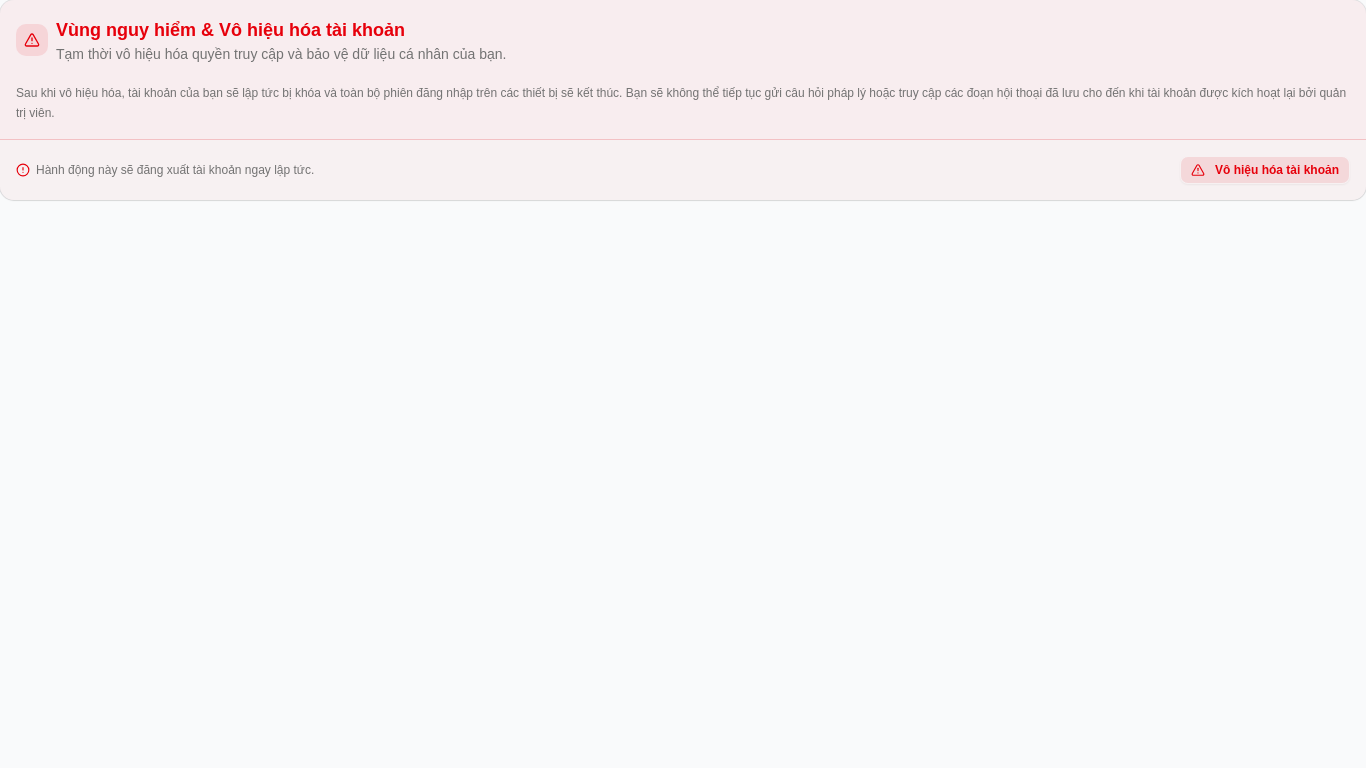
Test case: User Feature › DeactivateAccountCard component › allows non-admin user to open confirmation dialog and confirm
The image size is (1366, 768).
Later steps or results of the test are not shown.
Click the button "Vô hiệu hóa tài khoản" at (1265, 170), box left=1180, top=156, right=1350, bottom=184
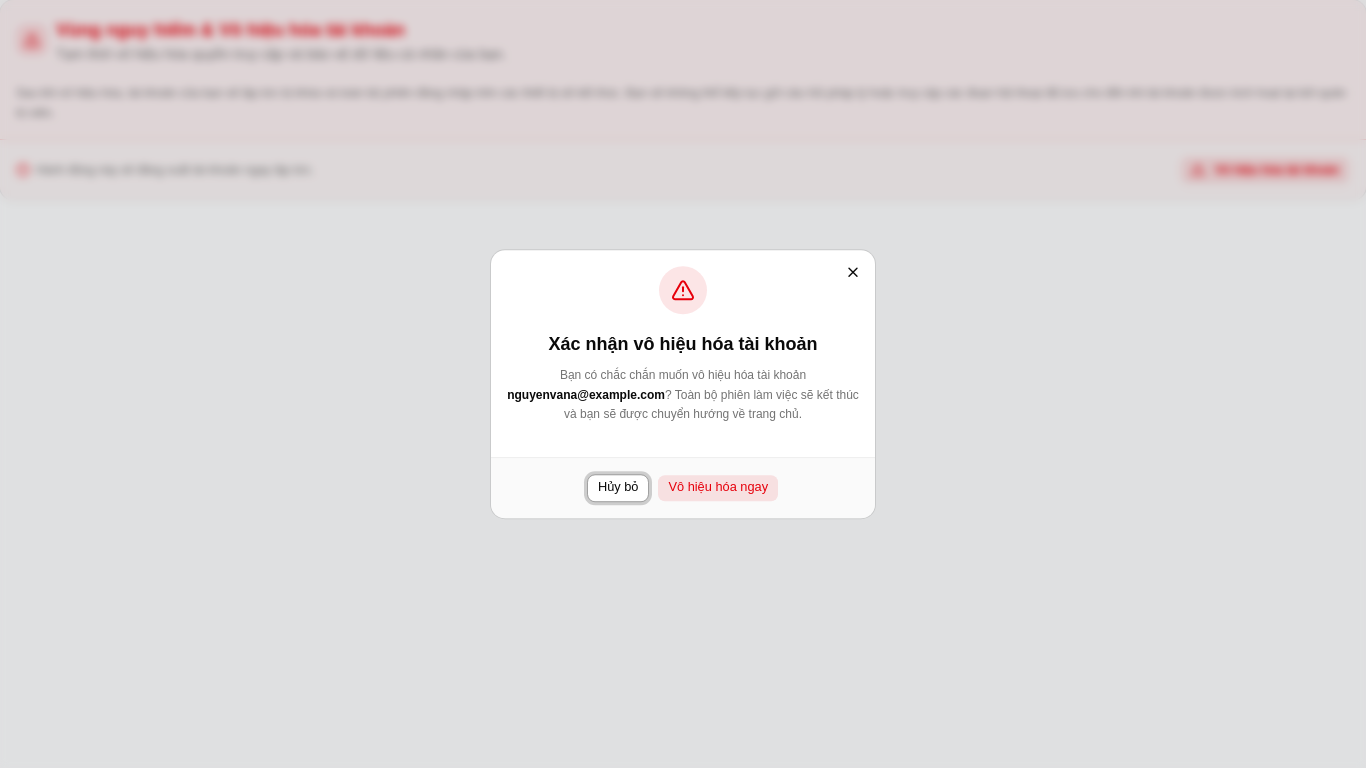
Result: the heading "Xác nhận vô hiệu hóa tài khoản" is shown at left=548, top=334, right=818, bottom=354
